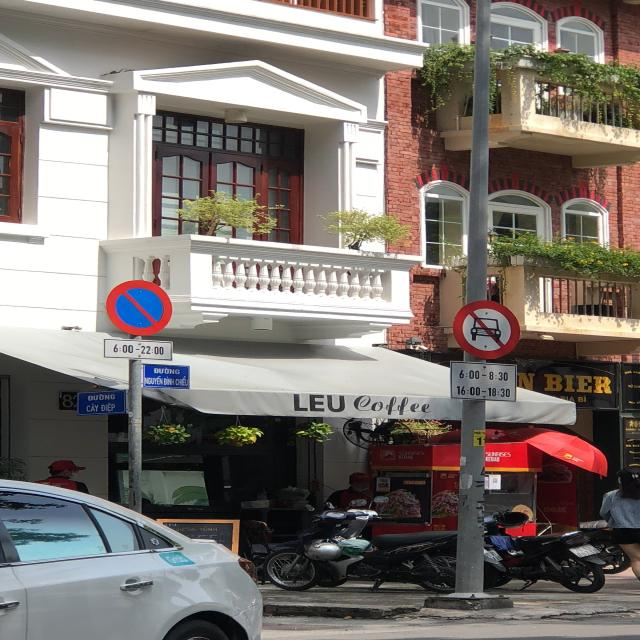Bien bao cam do xe: (92, 274, 184, 338)
Bien bao cam xe oto: (432, 292, 536, 362)
